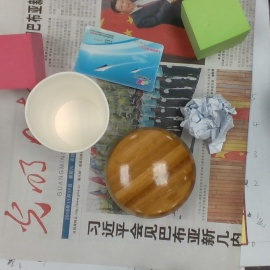card: (73, 25, 164, 91)
chess: (105, 126, 193, 220)
cup: (25, 71, 109, 154)
